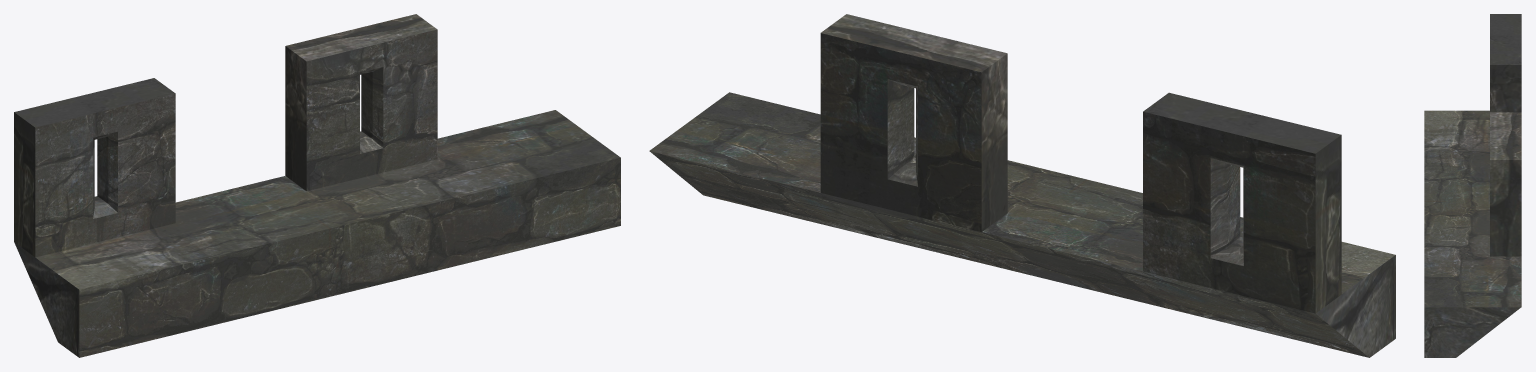
The model's file is Model_CASTLE_BATTLEMENT.FBX.
3 renders of one model, left to right at view 1: azimuth 30°, elevation 25°; view 2: azimuth 150°, elevation 25°; view 3: azimuth 270°, elevation 25°, orthographic. The views are drawn at different scales.
Visible parts, largest first — view 1: Model_CASTLE_BATTLEMENT; view 2: Model_CASTLE_BATTLEMENT; view 3: Model_CASTLE_BATTLEMENT.
Part boxes in pixels (x1=…): Model_CASTLE_BATTLEMENT: x1=14, y1=14, x2=620, y2=357; Model_CASTLE_BATTLEMENT: x1=649, y1=14, x2=1395, y2=357; Model_CASTLE_BATTLEMENT: x1=1424, y1=14, x2=1521, y2=357.
Size of the model in its own units: 216 by 75.62 by 45.14.
1 material, 1 textured.
